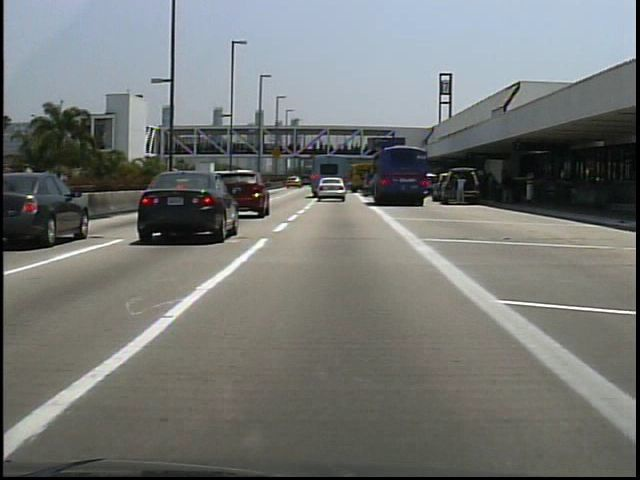person: (499, 170, 516, 209), (454, 174, 468, 209)
